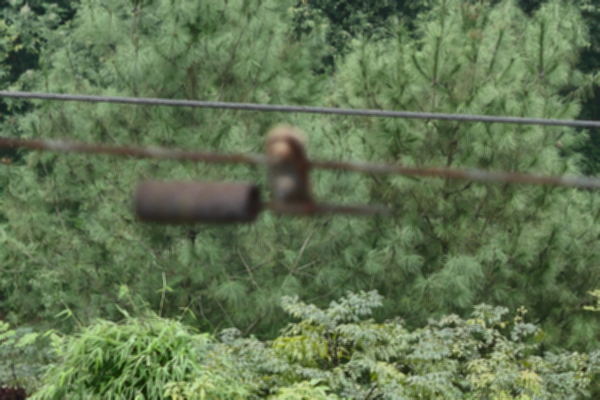damper_defect: (124, 118, 405, 234)
